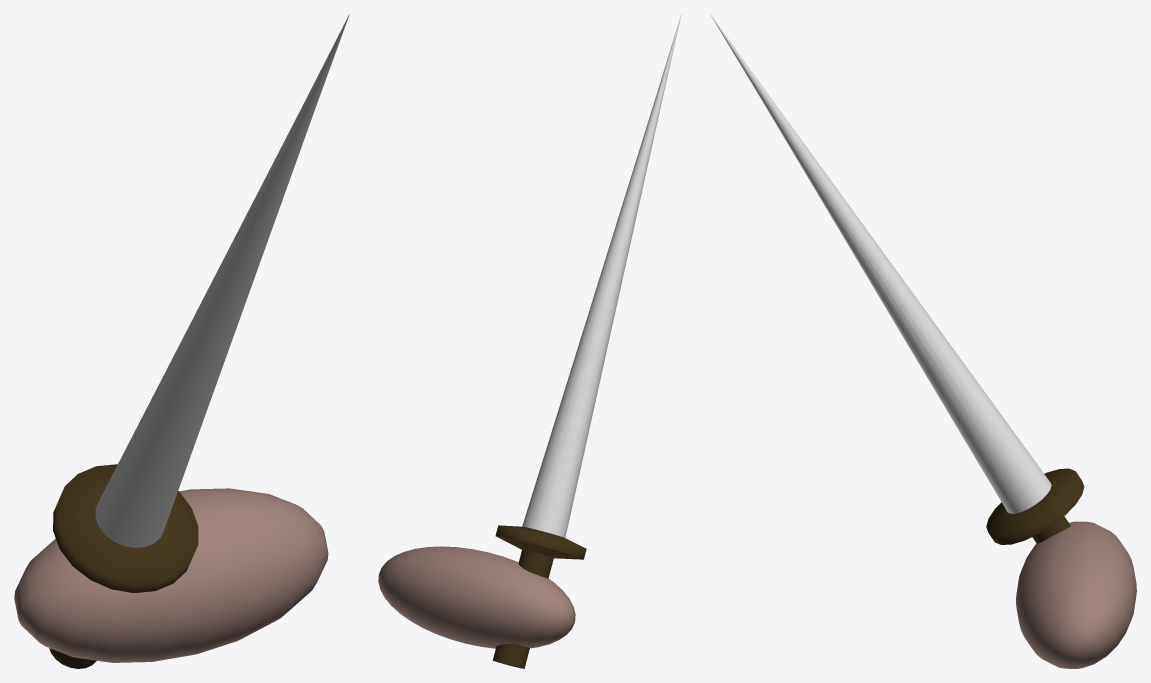
File: Lance.fbx
3 renders of one model, left to right at view 1: azimuth 30°, elevation 25°; view 2: azimuth 150°, elevation 25°; view 3: azimuth 270°, elevation 25°, orthographic. The views are drawn at different scales.
Parts seen in each view (by area): view 1: Lance; view 2: Lance; view 3: Lance.
Boxes of the visible parts, left/top/right/bottom form: Lance: left=14, top=14, right=349, bottom=668; Lance: left=378, top=14, right=681, bottom=668; Lance: left=710, top=14, right=1136, bottom=668.
Size of the model in its own units: 7.59 by 20.21 by 12.7.
